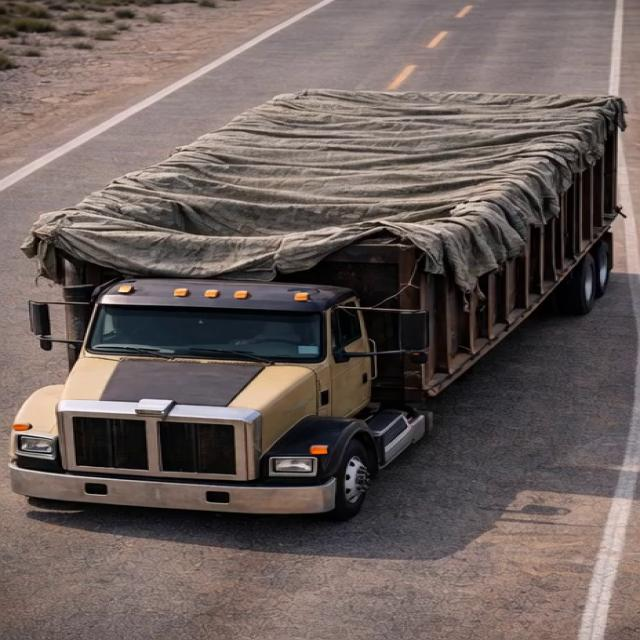trailer: (31, 96, 639, 276)
truck: (7, 72, 631, 535)
